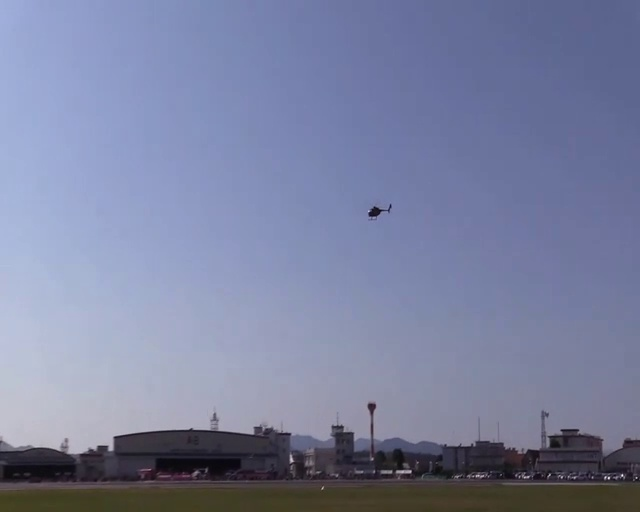HELICOPTER: (367, 202, 392, 220)
